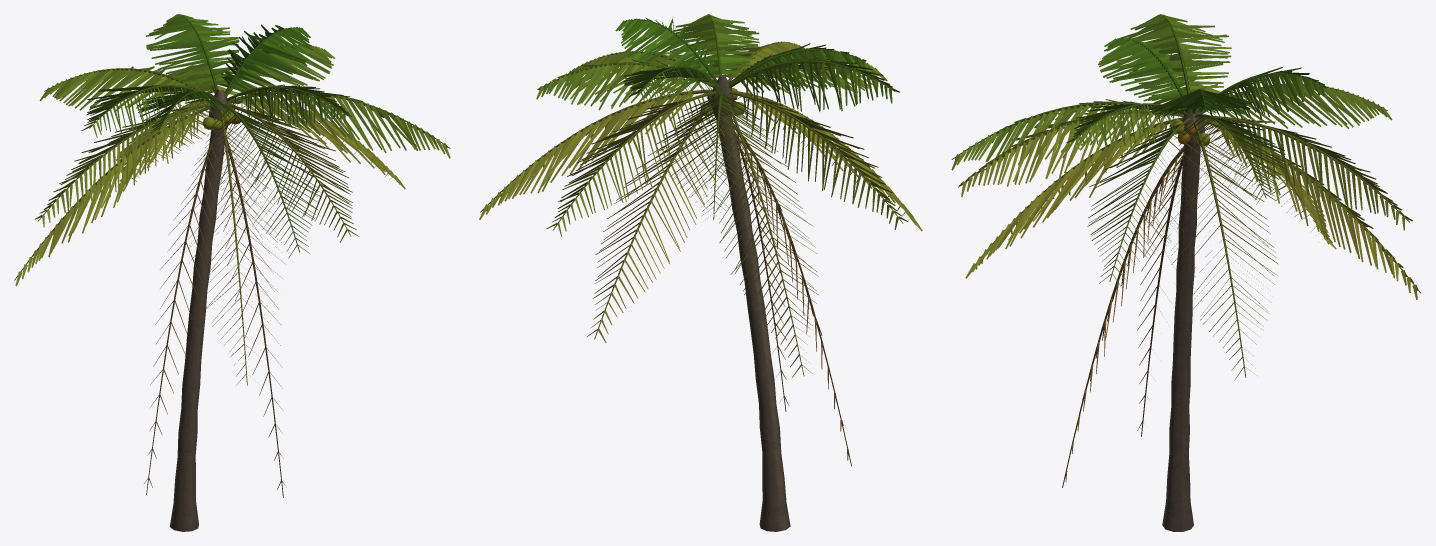
The model's file is palm_1.glb.
3 views of the same model, side by side, from view 1: azimuth 30°, elevation 25°; view 2: azimuth 150°, elevation 25°; view 3: azimuth 270°, elevation 25° (orthographic). The views are drawn at different scales.
Visible parts, largest first — view 1: palm_1; view 2: palm_1; view 3: palm_1.
Part boxes in pixels (x1,y1,x2,y2): palm_1: (14, 14, 450, 531); palm_1: (479, 14, 922, 531); palm_1: (951, 14, 1421, 531).
Bounding box in the file's own units: 8.22 × 9.49 × 8.28.
Materials: 3 (1 with a texture image).
